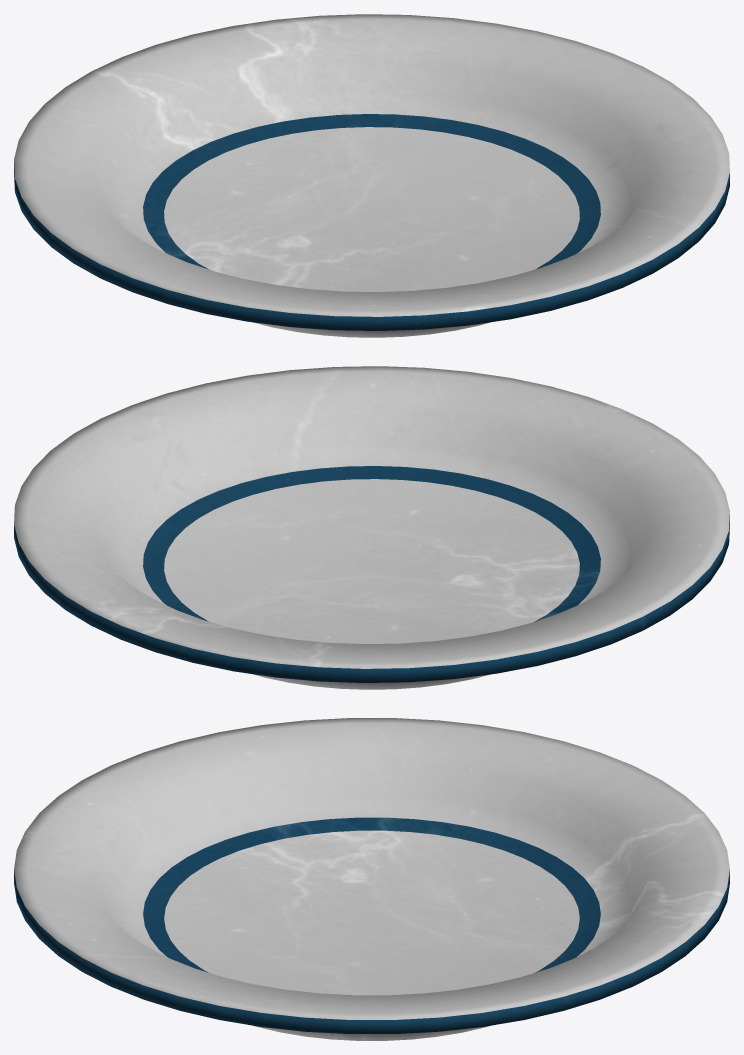
File: IntactPlate.fbx
3 renders of one model, top to bottom at view 1: azimuth 30°, elevation 25°; view 2: azimuth 150°, elevation 25°; view 3: azimuth 270°, elevation 25°, orthographic.
Visible parts, largest first — view 1: Plate Main Model; view 2: Plate Main Model; view 3: Plate Main Model.
Part boxes in pixels (x1=…): Plate Main Model: x1=14, y1=14, x2=729, y2=337; Plate Main Model: x1=14, y1=366, x2=729, y2=689; Plate Main Model: x1=14, y1=718, x2=729, y2=1040.
Size of the model in its own units: 28.53 by 3.6 by 28.58.
